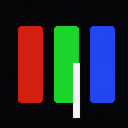4 line_v: (73, 63, 79, 117)
